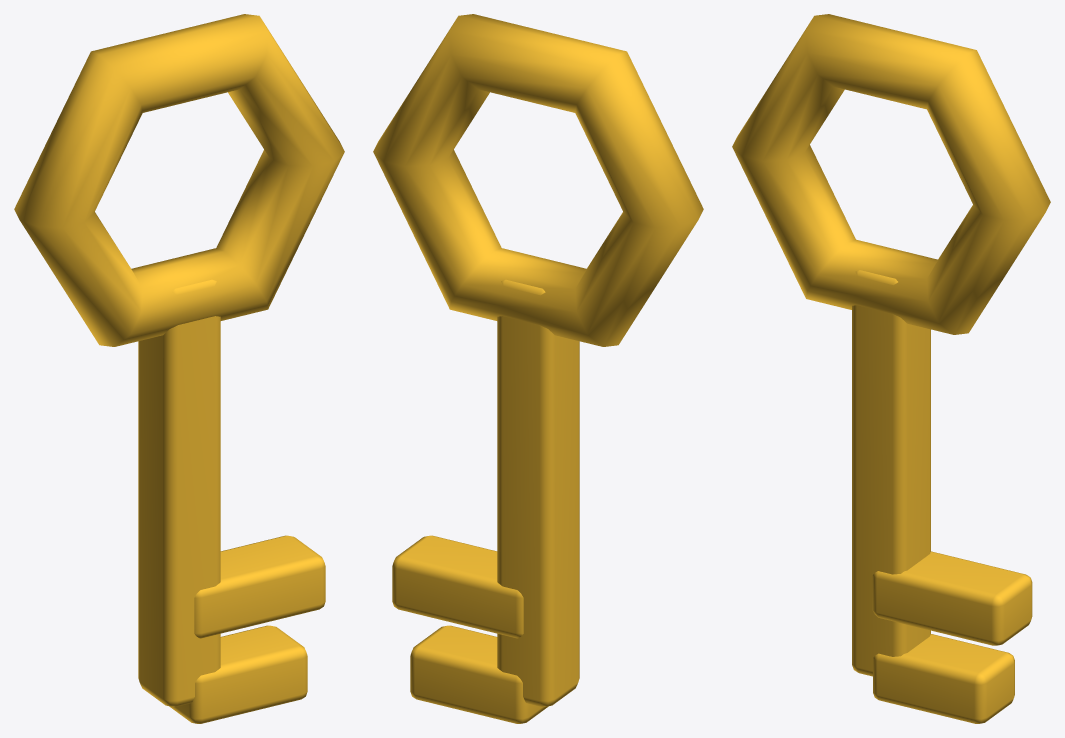
File: key-marigold.glb
3 views of the same model, side by side, from view 1: azimuth 30°, elevation 25°; view 2: azimuth 150°, elevation 25°; view 3: azimuth 330°, elevation 25° (orthographic). The views are drawn at different scales.
Parts seen in each view (by area): view 1: Key • hexagonal bow, Key • stem, Key • tooth 1, Key • tooth 2; view 2: Key • hexagonal bow, Key • stem, Key • tooth 1, Key • tooth 2; view 3: Key • hexagonal bow, Key • stem, Key • tooth 1, Key • tooth 2.
Part boxes in pixels (left/top/right/bottom): Key • hexagonal bow: left=14, top=14, right=344, bottom=346; Key • stem: left=138, top=279, right=220, bottom=706; Key • tooth 1: left=194, top=535, right=325, bottom=638; Key • tooth 2: left=169, top=625, right=307, bottom=723; Key • hexagonal bow: left=373, top=14, right=703, bottom=346; Key • stem: left=497, top=279, right=579, bottom=706; Key • tooth 1: left=392, top=535, right=523, bottom=638; Key • tooth 2: left=410, top=625, right=548, bottom=723; Key • hexagonal bow: left=732, top=14, right=1050, bottom=334; Key • stem: left=852, top=270, right=930, bottom=676; Key • tooth 1: left=872, top=551, right=1032, bottom=645; Key • tooth 2: left=873, top=634, right=1014, bottom=723.
Size of the model in its own units: 0.294 by 0.5958 by 0.0609.
